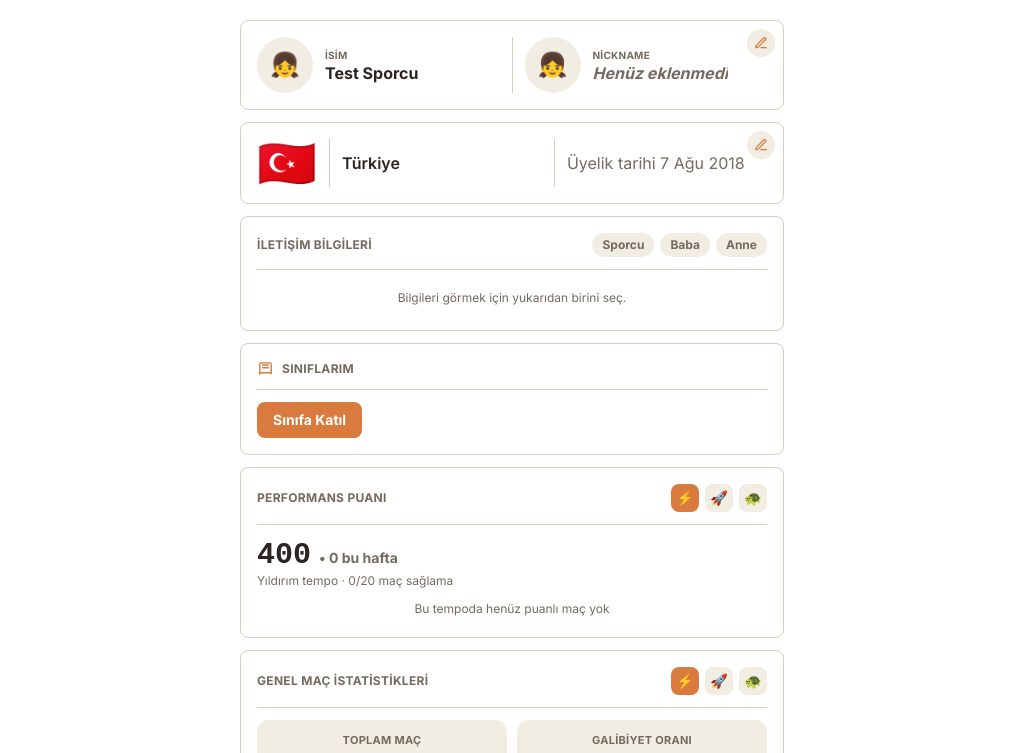
Sınıf Bilgileri kartı (Sınıflarım — Madde 3) › yanlış kod girilirse hata gösterir, buton kalır (katılmadı)
The image size is (1024, 753).
Check: the text "Test Sporcu" is shown, box [325,62,418,82]
Click the button "Sınıfa Katıl".
click(310, 420)  # box [257,402,362,438]
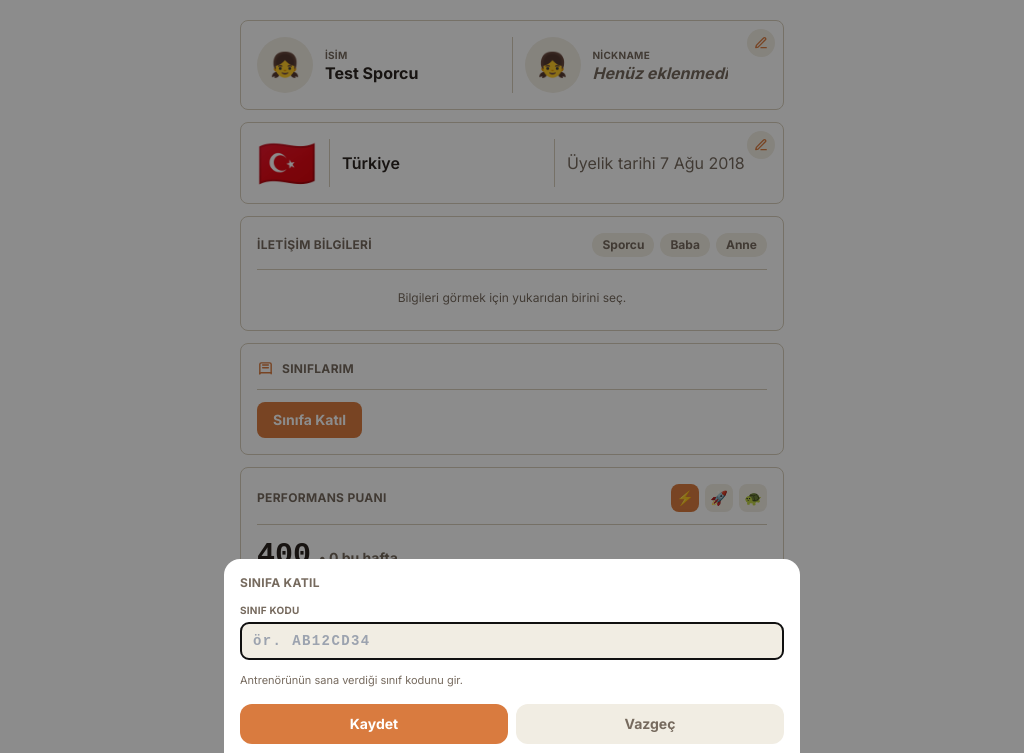
Type "BADCODE" into the field labelled "Sınıf Kodu".
click(512, 640); type("BADCODE")  # box [240,622,784,660]
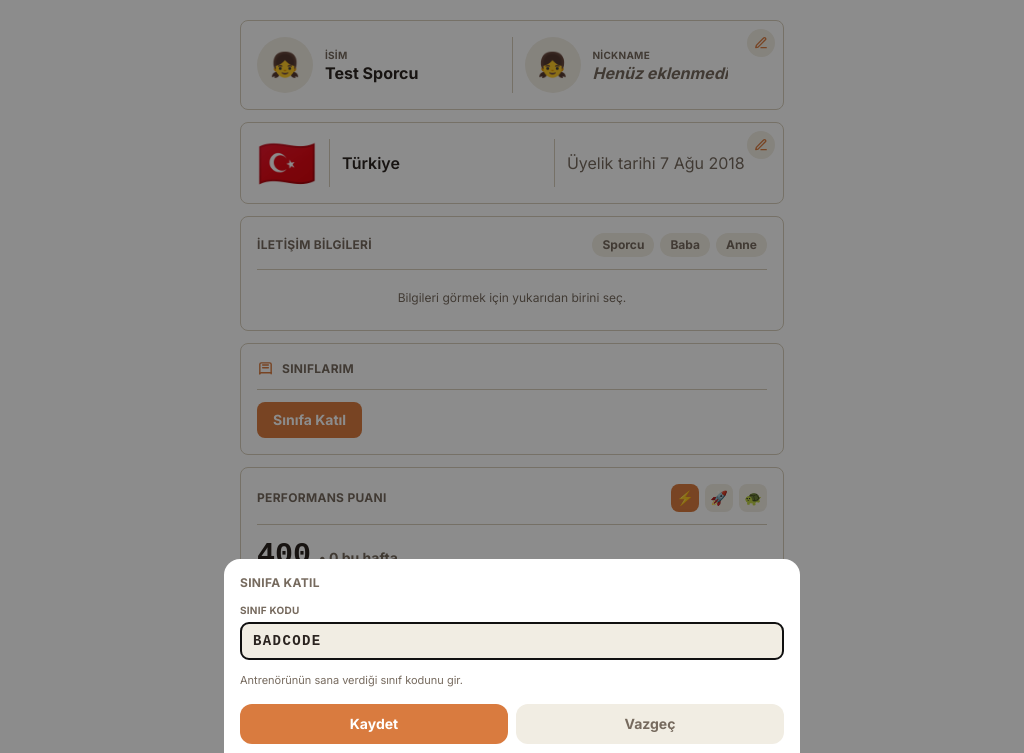
Click the button "Kaydet".
click(374, 724)  # box [240,704,508,744]
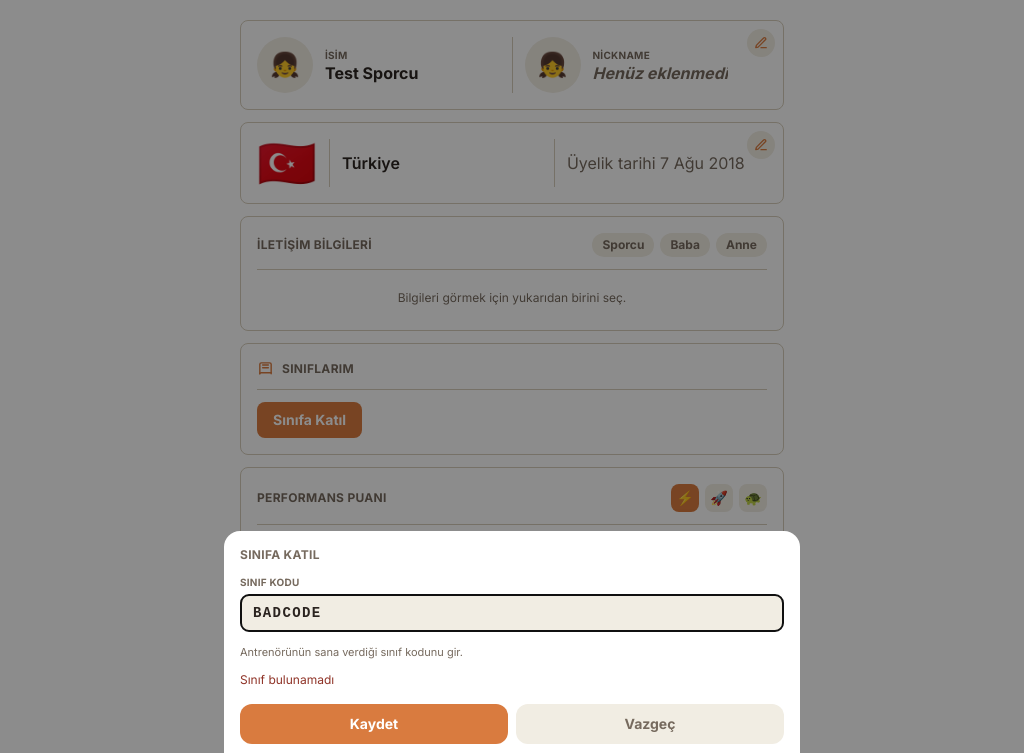
Check: the text "Sınıf bulunamadı" is shown, box [240,672,334,687]
